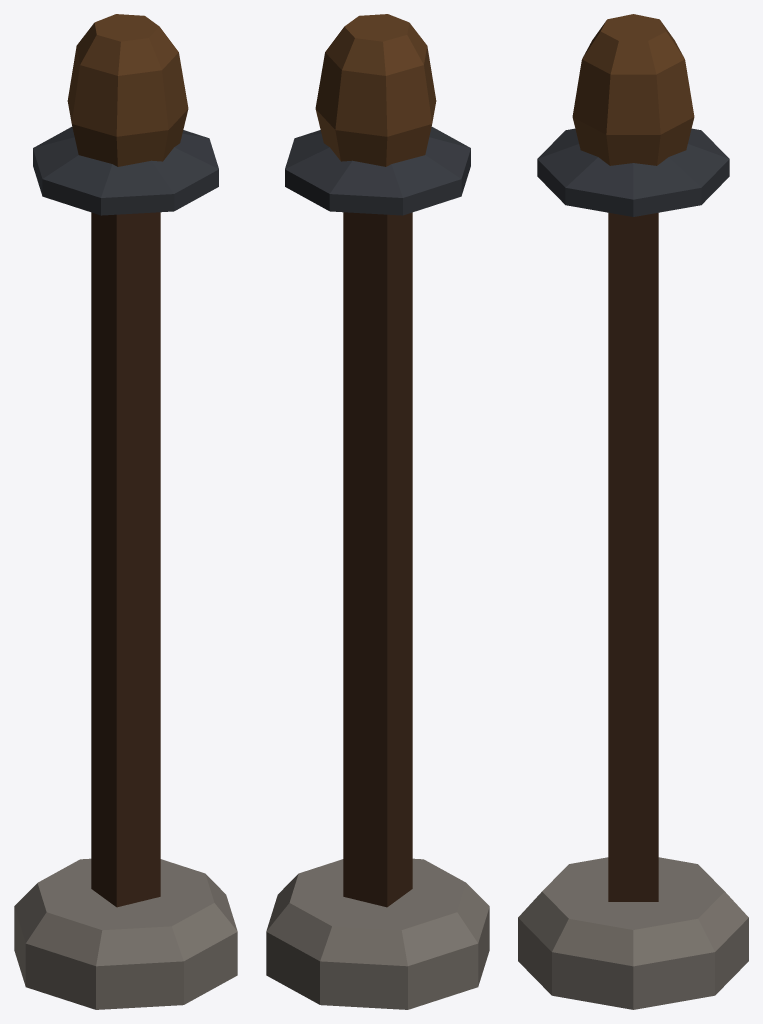
3 renders of one model, left to right at view 1: azimuth 30°, elevation 25°; view 2: azimuth 150°, elevation 25°; view 3: azimuth 270°, elevation 25°, orthographic.
Parts seen in each view (by area): view 1: TR-主体; view 2: TR-主体; view 3: TR-主体.
Part boxes in pixels (x1,y1,x2,y2): TR-主体: [14, 14, 237, 1009]; TR-主体: [266, 14, 489, 1009]; TR-主体: [518, 14, 748, 1009].
Size of the model in its own units: 0.48 by 2.14 by 0.48.
1 material, 1 textured.
